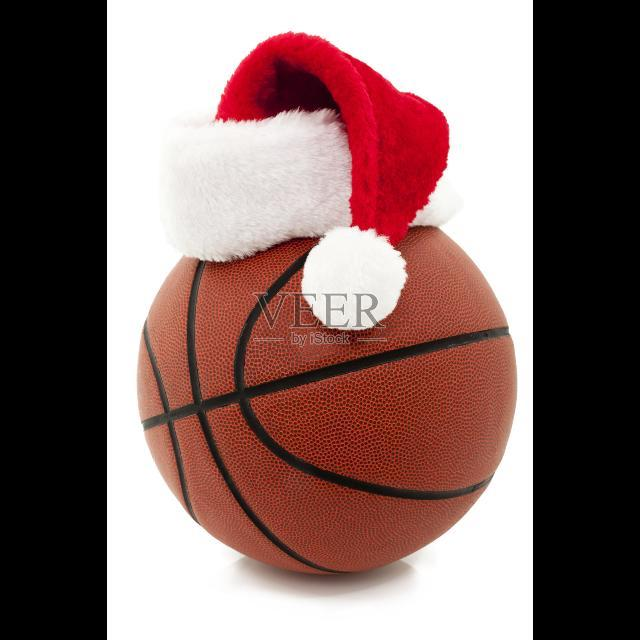basketball: (138, 224, 516, 576)
